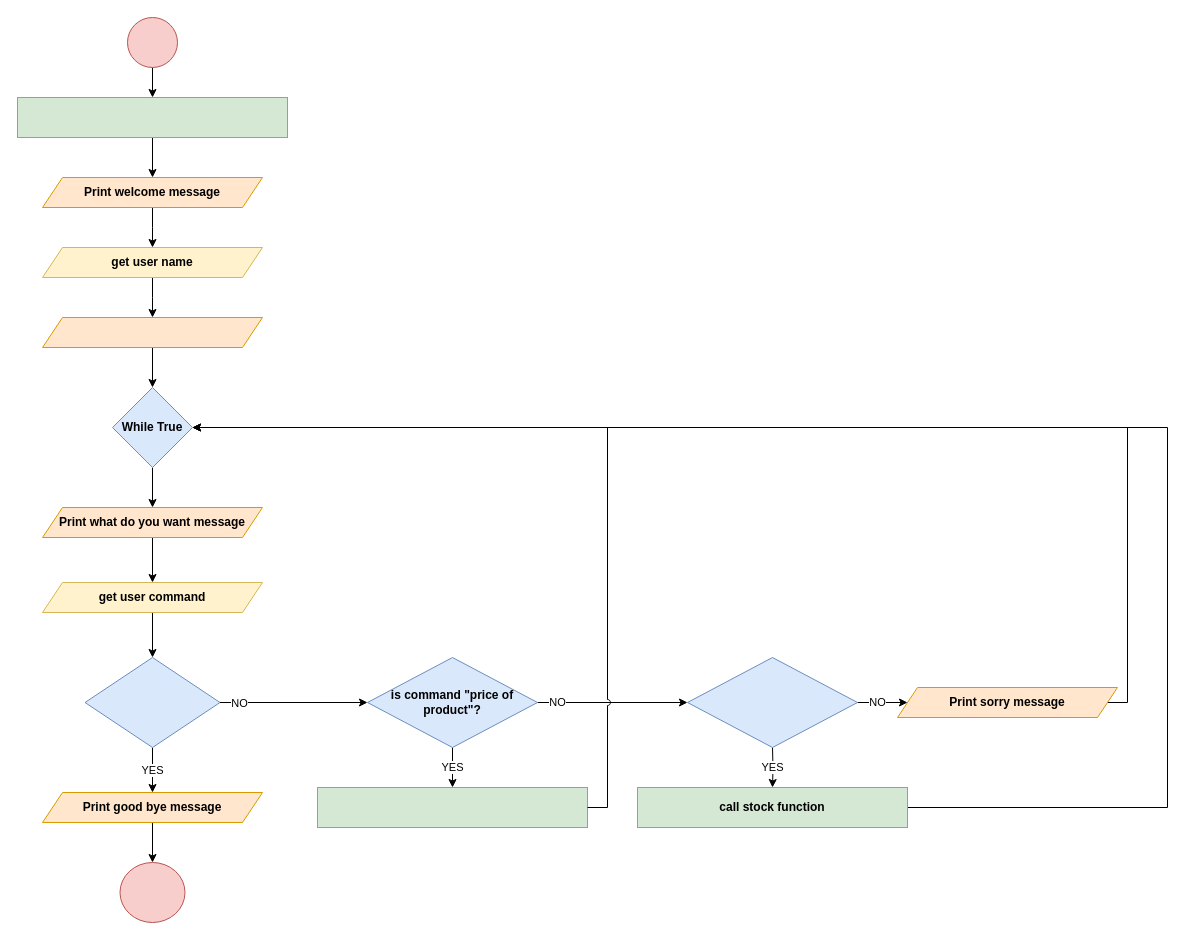
Some shapes in this 1193 by 940 pixel diagram are drawn without their labels. Here are the shapes that lost their labels. From the top down, the centre of each, then its label:
the point at 152,117: look price of product in dictionary
the point at 152,332: Print hello message
the point at 152,702: is command "goodbye"?
the point at 772,702: is command "stock of product"?
the point at 452,807: call price function
